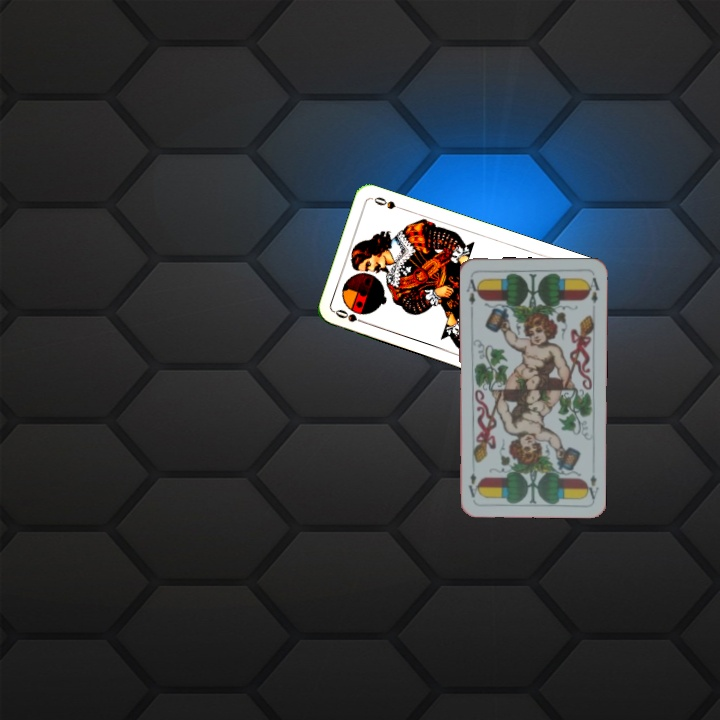EA: (462, 275, 482, 313), (582, 471, 601, 502)
SO: (331, 305, 371, 327)
